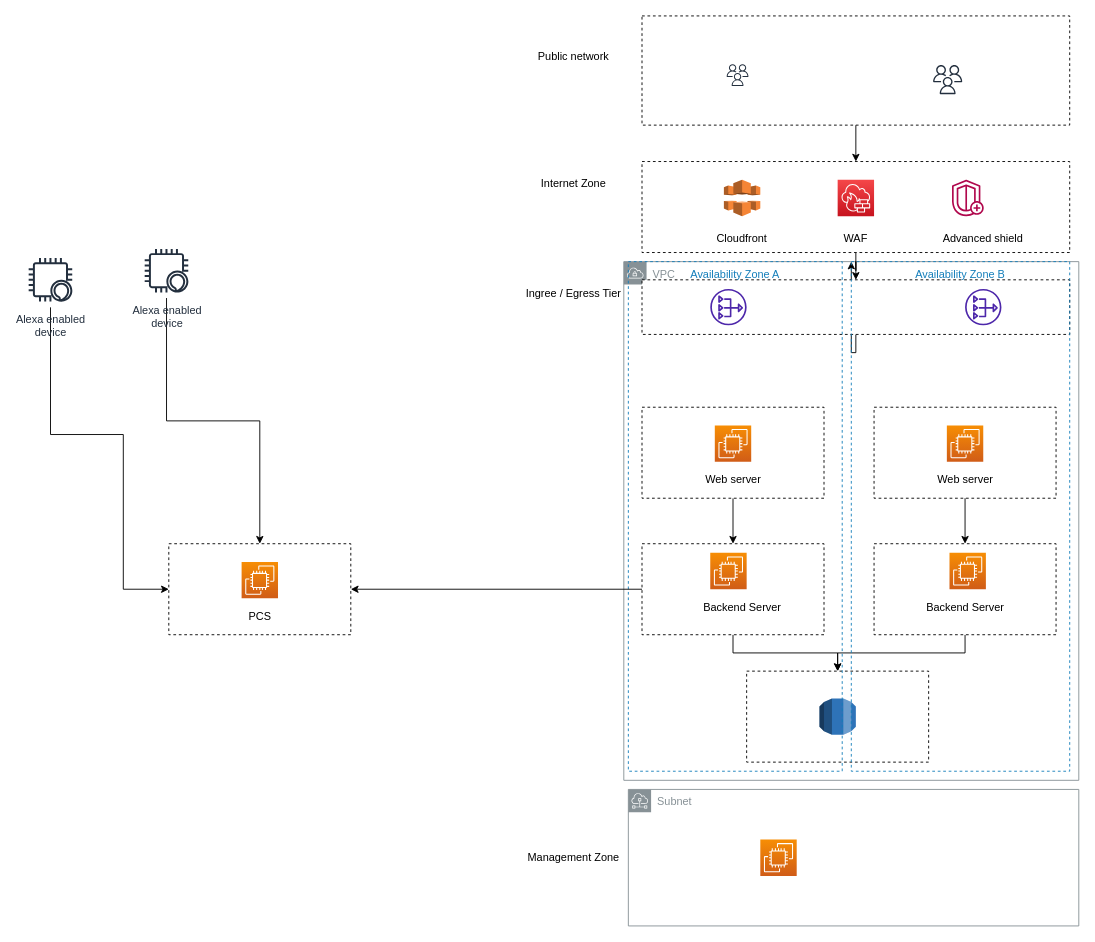
The diagram is 1095 pixels wide and 942 high, and some of its shapes have lost their labels. Here are the shapes that lost their labels. From the top down, the centre of each, then its label:
At pixel 737 75: "Users".
At pixel 947 79: "Admin".
